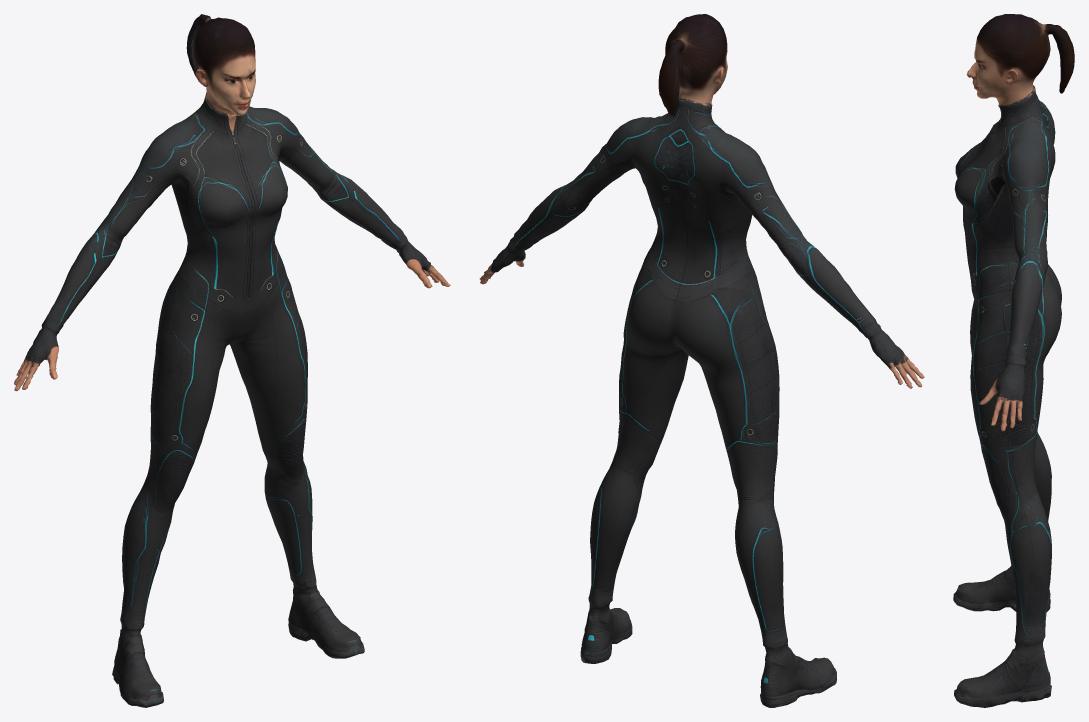
File: pilot-female.glb
The picture shows the model from 3 angles, left to right: view 1: azimuth 30°, elevation 25°; view 2: azimuth 150°, elevation 25°; view 3: azimuth 270°, elevation 25°; orthographic projection. The views are drawn at different scales.
Parts seen in each view (by area): view 1: Mesh_0; view 2: Mesh_0; view 3: Mesh_0.
Boxes of the visible parts, x1,y1,x2,y2 form: Mesh_0: [14, 14, 450, 707]; Mesh_0: [479, 14, 924, 707]; Mesh_0: [953, 14, 1074, 707].
Size of the model in its own units: 1.17 by 1.65 by 0.286.
Materials: 1 (1 with a texture image).
